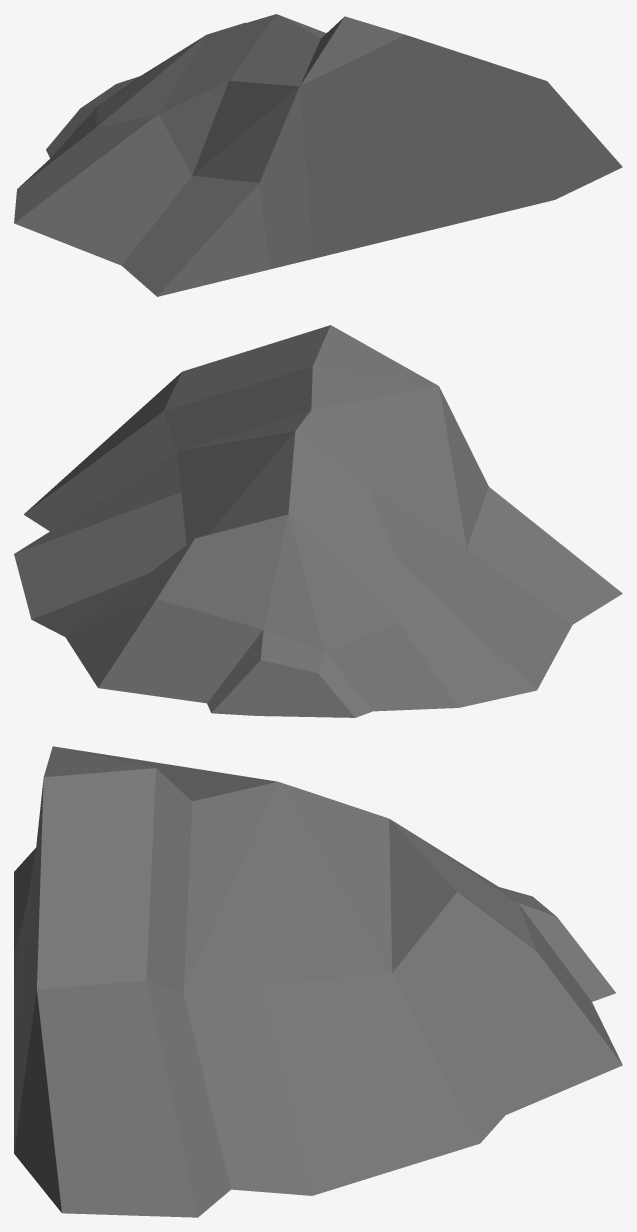
Rendered from castle_ruin_rubble.gltf.
3 renders of one model, top to bottom at view 1: azimuth 30°, elevation 25°; view 2: azimuth 150°, elevation 25°; view 3: azimuth 270°, elevation 25°, orthographic. The views are drawn at different scales.
Parts seen in each view (by area): view 1: castle_ruin_rubble; view 2: castle_ruin_rubble; view 3: castle_ruin_rubble.
Boxes of the visible parts, bbox=[...] form: castle_ruin_rubble: bbox=[14, 14, 622, 296]; castle_ruin_rubble: bbox=[14, 325, 622, 717]; castle_ruin_rubble: bbox=[14, 746, 622, 1217].
Bounding box in the file's own units: 5.03 × 1.77 × 3.52.
Materials: 1 (1 with a texture image).
